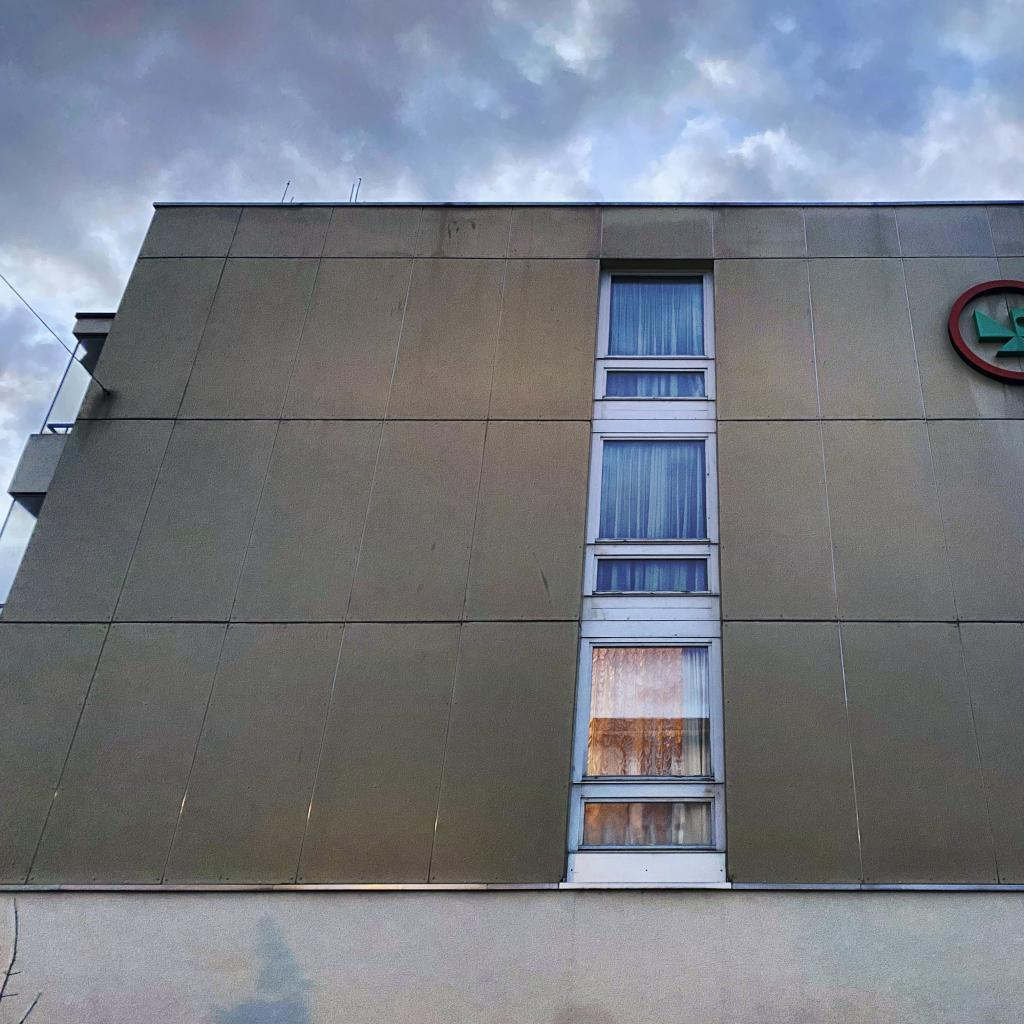balcony-fence: (29, 422, 75, 435), (0, 603, 5, 618)
facade: (0, 199, 1024, 1024)
window: (586, 644, 712, 780), (596, 438, 708, 540), (606, 273, 706, 356), (579, 797, 717, 850), (39, 335, 108, 434), (0, 494, 45, 617), (593, 556, 709, 594), (603, 368, 708, 397)
